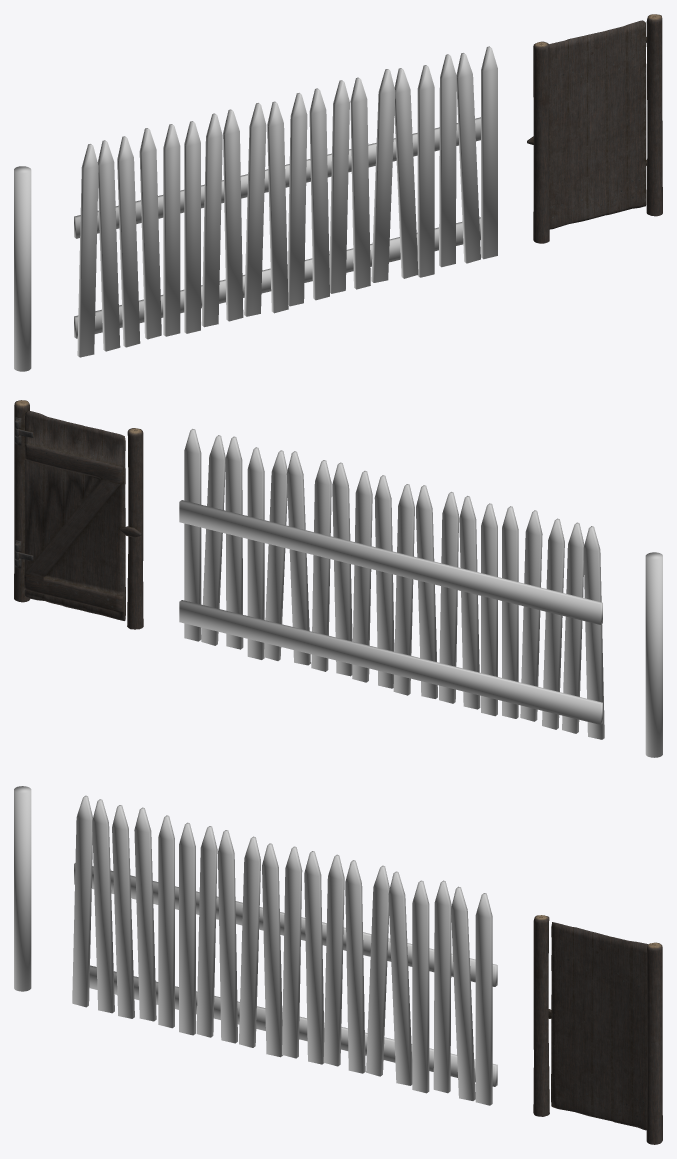
3 views of the same model, one above another, from view 1: azimuth 30°, elevation 25°; view 2: azimuth 150°, elevation 25°; view 3: azimuth 330°, elevation 25° (orthographic).
Parts seen in each view (by area): view 1: Wood_Zabor, vorota_Default_0, Column_Default_0, Column001; view 2: Wood_Zabor, vorota_Default_0, Column_Default_0, Column001; view 3: Wood_Zabor, vorota_Default_0, Column_Default_0, Column001.
Boxes of the visible parts, <box> form: Wood_Zabor: <box>74,46,497,357</box>; vorota_Default_0: <box>548,20,646,229</box>; Column_Default_0: <box>533,14,662,243</box>; Column001: <box>14,166,31,371</box>; Wood_Zabor: <box>179,429,604,739</box>; vorota_Default_0: <box>24,410,125,620</box>; Column_Default_0: <box>14,400,143,629</box>; Column001: <box>645,552,662,757</box>; Wood_Zabor: <box>72,795,497,1105</box>; vorota_Default_0: <box>551,922,647,1130</box>; Column_Default_0: <box>533,915,662,1144</box>; Column001: <box>14,786,31,991</box>.
Size of the model in its own units: 145 by 46.02 by 3.99.
